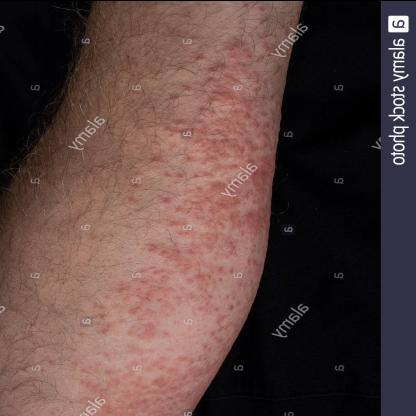Fire ant: (162, 32, 278, 163), (151, 164, 275, 266), (76, 344, 233, 415), (77, 268, 175, 342), (178, 267, 263, 342), (123, 177, 144, 205), (240, 1, 270, 12), (127, 56, 140, 74), (254, 16, 270, 30), (42, 406, 62, 416), (83, 231, 101, 242), (22, 328, 38, 340), (130, 87, 144, 99), (46, 356, 60, 366), (43, 264, 57, 274), (4, 304, 16, 314), (148, 152, 158, 162), (114, 91, 122, 101)
